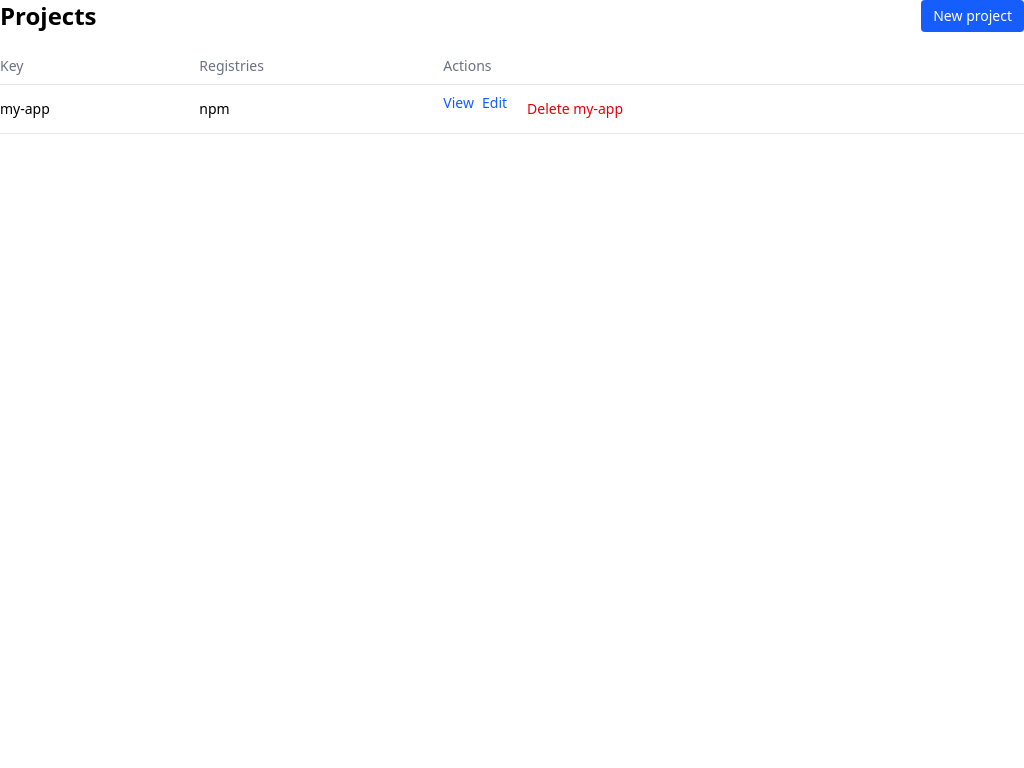
Test case: ProjectsListPage › deletes a project after confirmation
The width and height of the screenshot is (1024, 768).
Expected: the row with test id "project-row-my-app" is shown, [0,84,1023,134]
Click the button with test id "project-delete-my-app" at coordinates (575, 109), box [515,93,635,125]
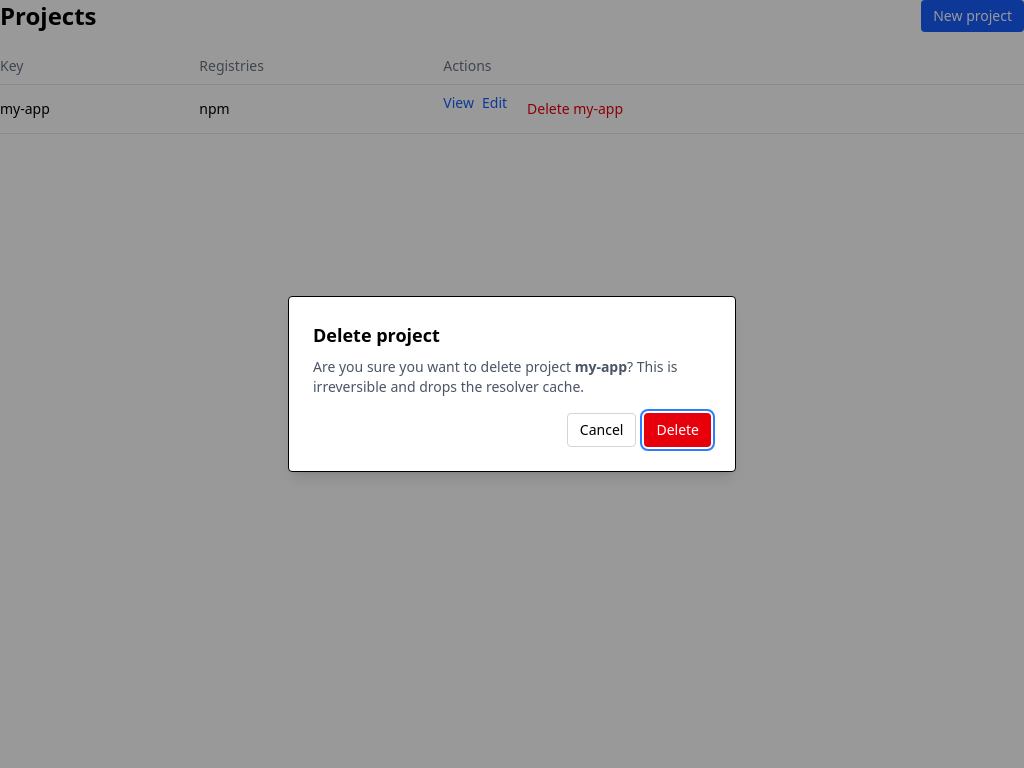
Click the button "Delete" at coordinates (678, 430), box [644,413,711,447]
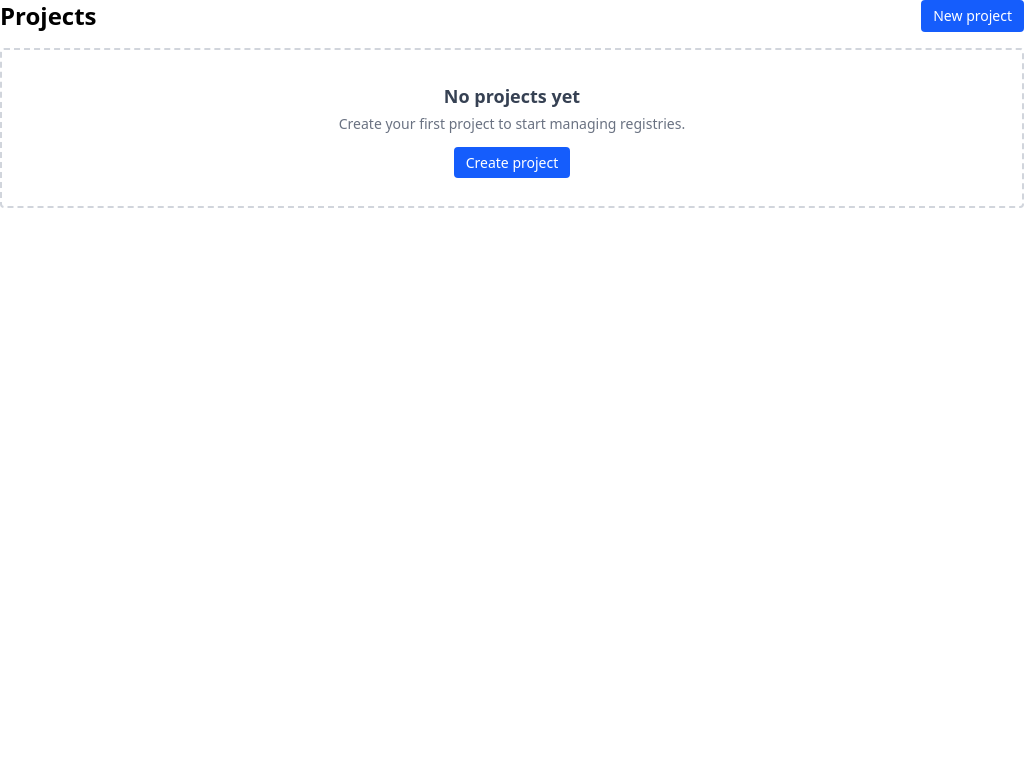
Expected: the row with test id "project-row-my-app" is gone
Expected: the element with test id "projects-empty" is shown, [0,48,1023,208]
